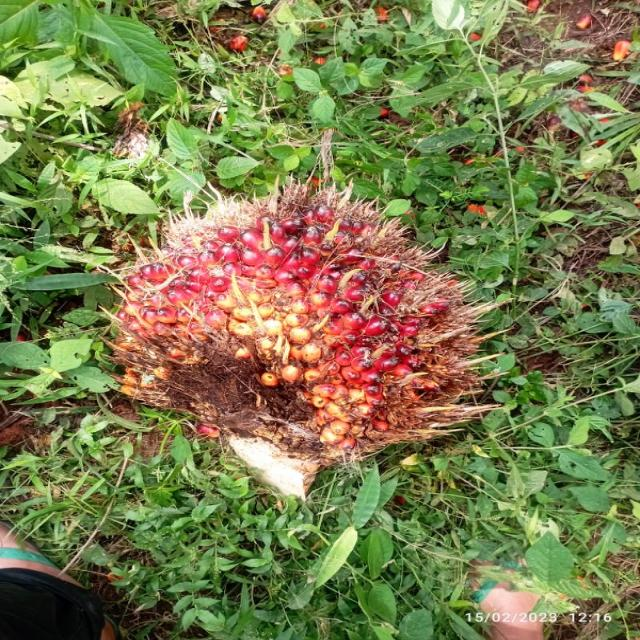fraksi 3: (87, 143, 535, 484)
